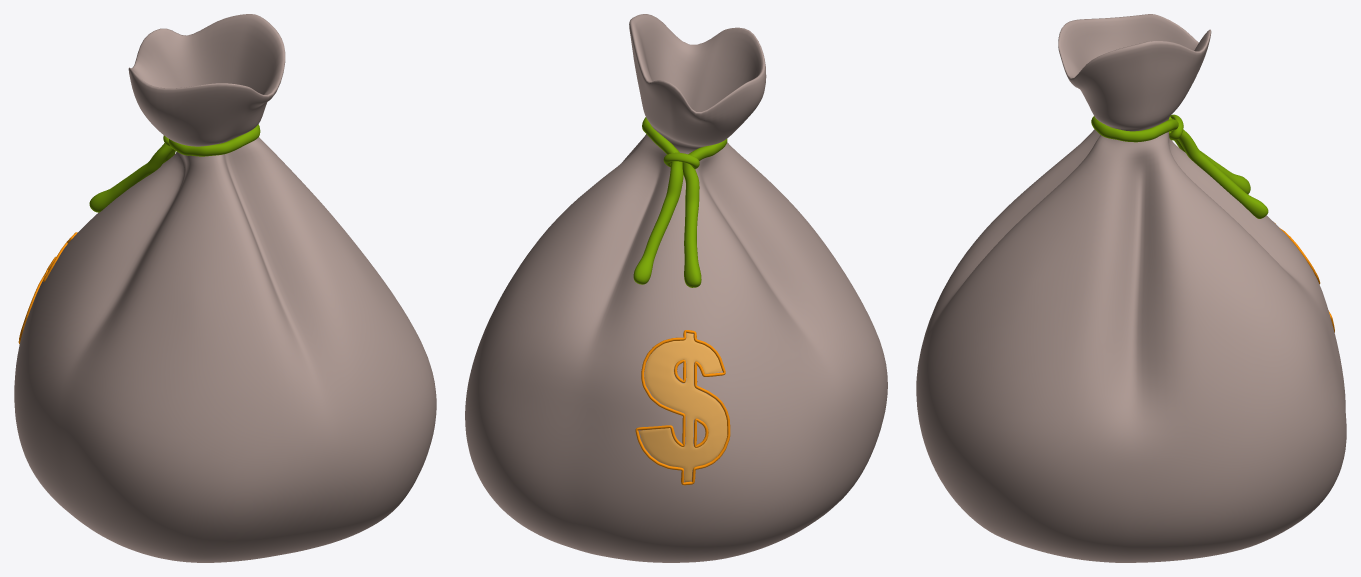
Rendered from moneyBag-transformed.glb.
The picture shows the model from 3 angles, left to right: view 1: azimuth 30°, elevation 25°; view 2: azimuth 150°, elevation 25°; view 3: azimuth 270°, elevation 25°; orthographic projection.
Parts seen in each view (by area): view 1: Object_4, Object_12; view 2: Object_4, Object_12; view 3: Object_4, Object_12.
Part boxes in pixels (<box>): Object_4: <box>14,14,436,562</box>; Object_12: <box>18,124,260,343</box>; Object_4: <box>465,14,887,562</box>; Object_12: <box>633,117,730,485</box>; Object_4: <box>916,14,1346,562</box>; Object_12: <box>1091,114,1334,332</box>.
Size of the model in its own units: 3.43 by 4.76 by 3.73.
2 materials, 2 textured.
